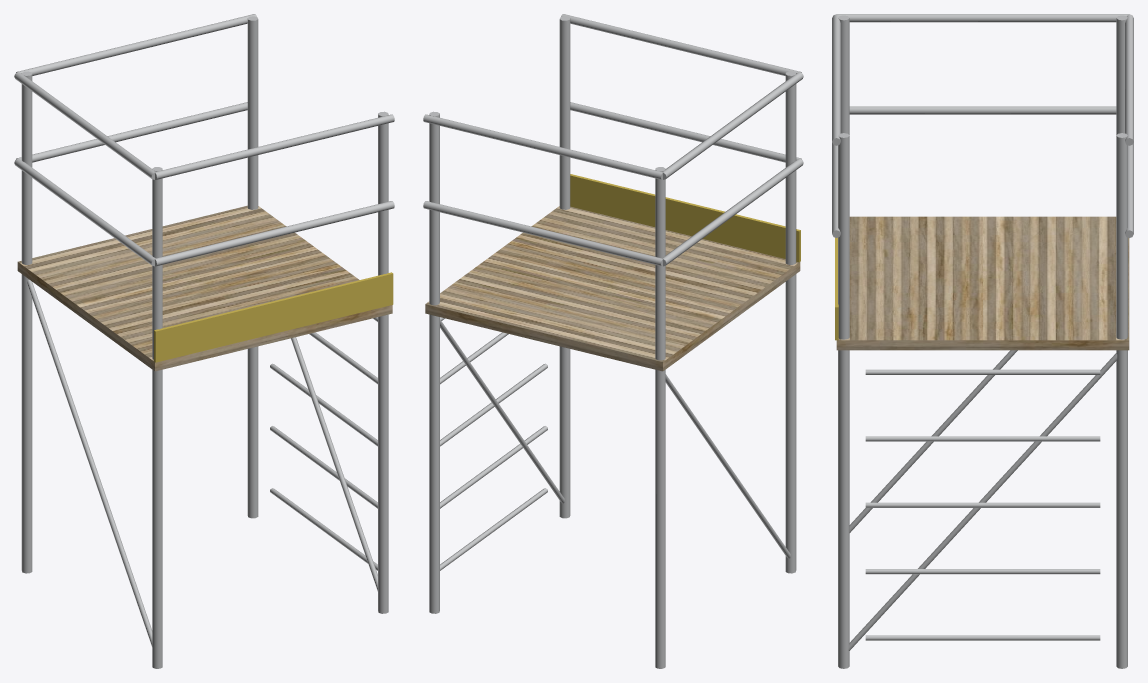
The model's file is fp_flagman_stand.glb.
3 views of the same model, side by side, from view 1: azimuth 30°, elevation 25°; view 2: azimuth 150°, elevation 25°; view 3: azimuth 270°, elevation 25° (orthographic). The views are drawn at different scales.
Visible parts, largest first — view 1: fp_flagman_stand; view 2: fp_flagman_stand; view 3: fp_flagman_stand.
Part boxes in pixels (x1,y1,x2,y2): fp_flagman_stand: (14, 14, 394, 668); fp_flagman_stand: (423, 14, 803, 668); fp_flagman_stand: (832, 14, 1133, 668).
Size of the model in its own units: 4.14 by 8.01 by 4.12.
3 materials, 1 textured.
